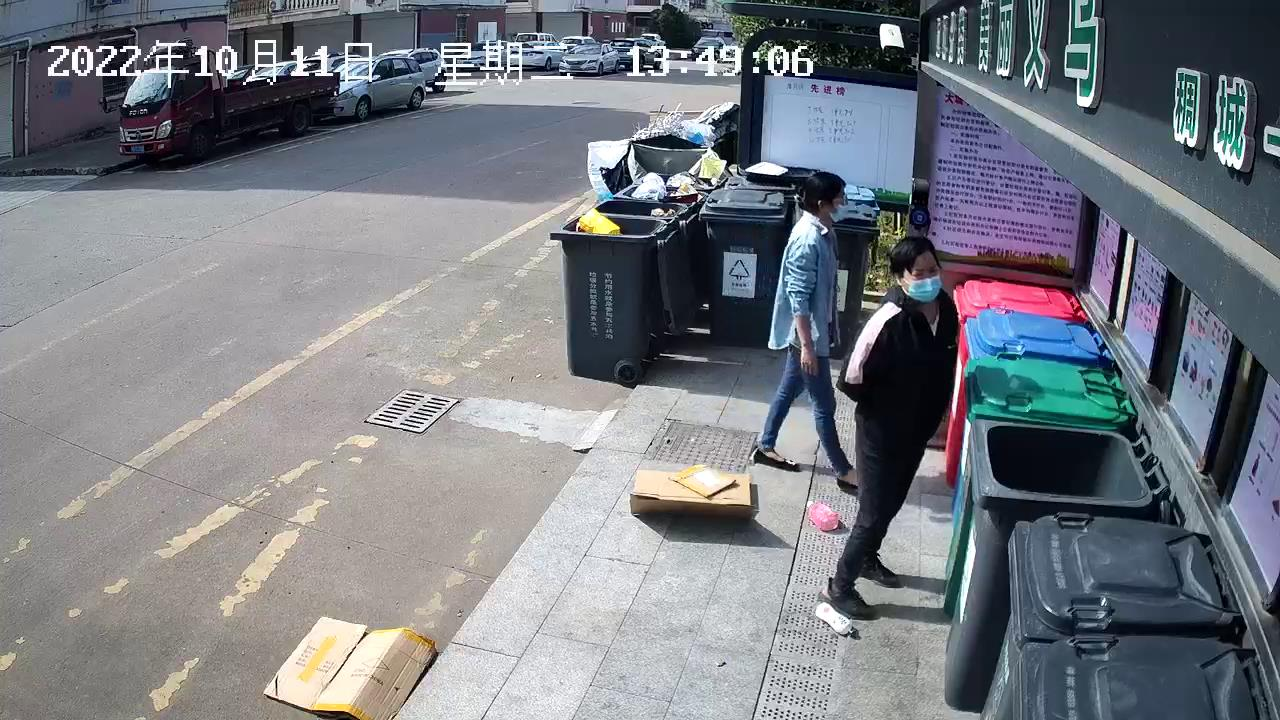person: (818, 230, 965, 623)
suliaozhipin: (808, 594, 858, 641), (801, 494, 841, 534)
worker: (748, 165, 861, 495)
zhizhipin: (262, 612, 446, 720), (625, 456, 765, 529)
